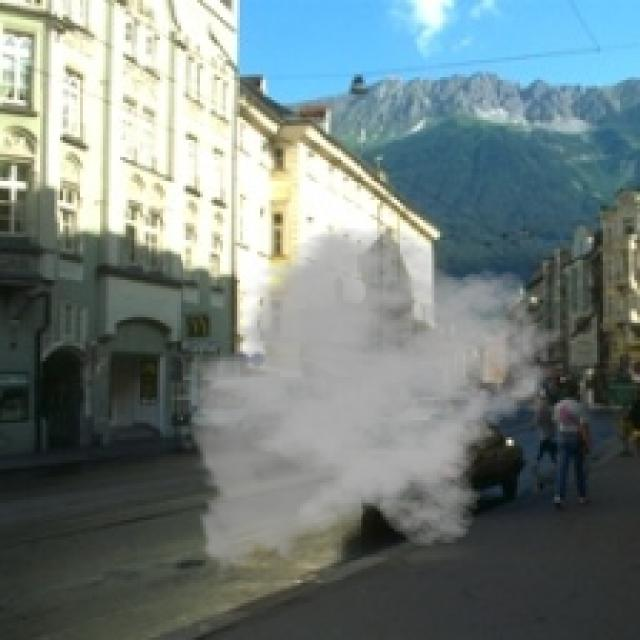smoke: (177, 226, 566, 583)
